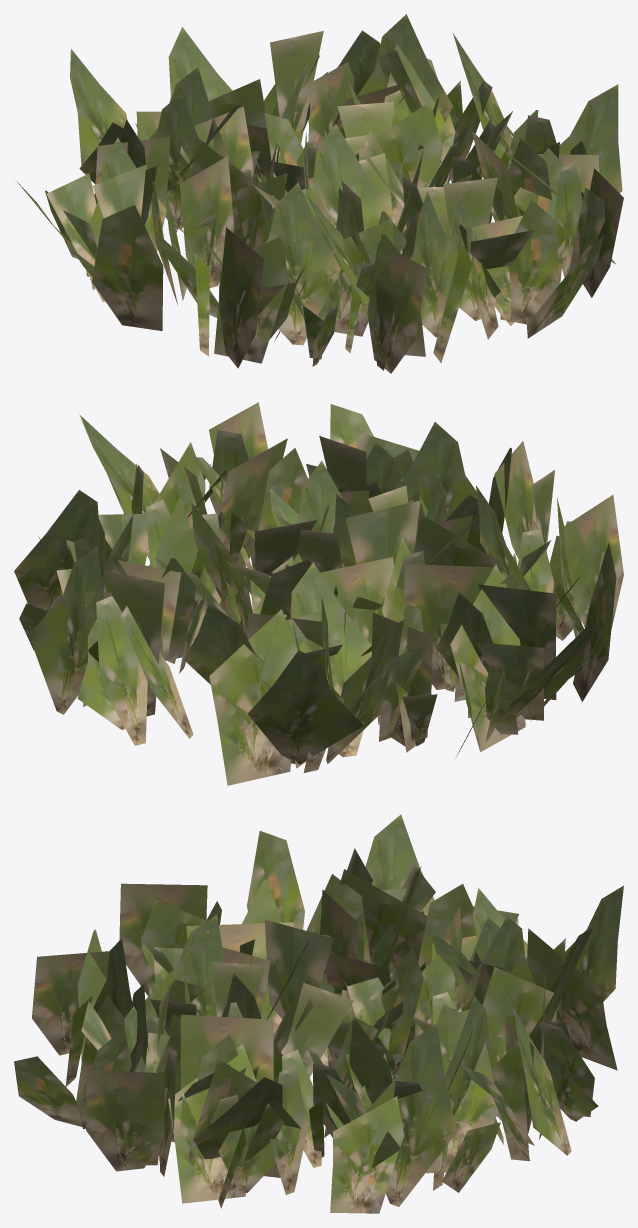
File: grass_2_3.FBX
The picture shows the model from 3 angles, top to bottom: view 1: azimuth 30°, elevation 25°; view 2: azimuth 150°, elevation 25°; view 3: azimuth 270°, elevation 25°; orthographic projection. The views are drawn at different scales.
Parts seen in each view (by area): view 1: grass_2_03; view 2: grass_2_03; view 3: grass_2_03.
Boxes of the visible parts, box(x1,y1,x2,y2) form: grass_2_03: box(14, 14, 623, 373); grass_2_03: box(14, 402, 623, 785); grass_2_03: box(14, 814, 623, 1213).
Bounding box in the file's own units: 113 × 33.58 × 106.
1 material, 1 textured.
